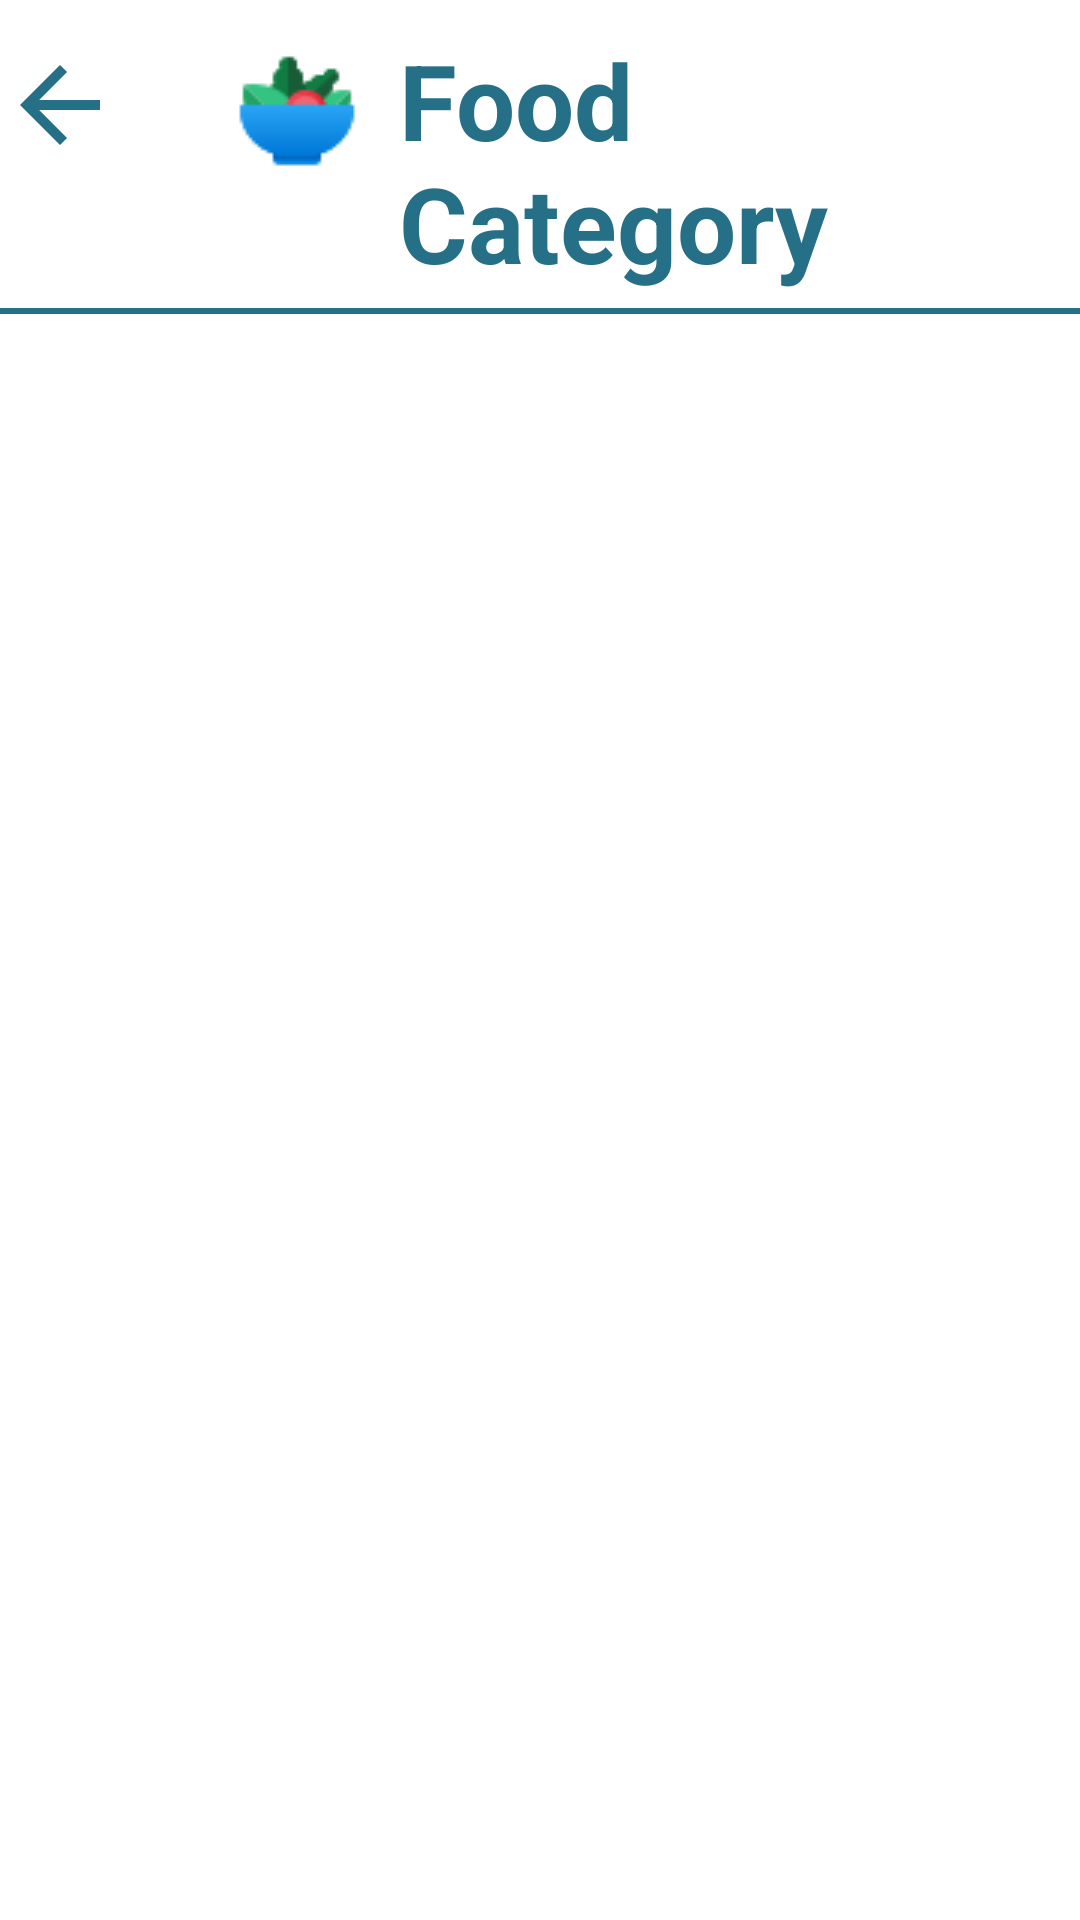

Icons on this 1080px×1920px Android screen, each with its box as [x1=x1, y1=y1, x2=x2, y2=y2]:
arrow back: [x1=20, y1=65, x2=100, y2=145]
